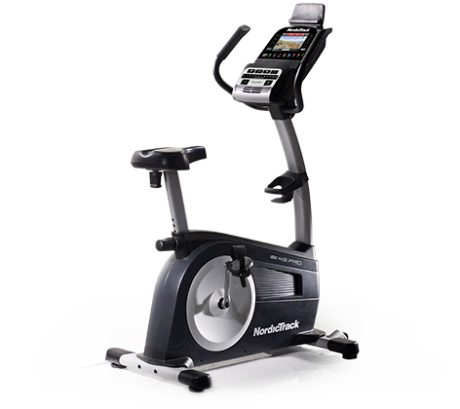gym_bike: (107, 1, 348, 396)
